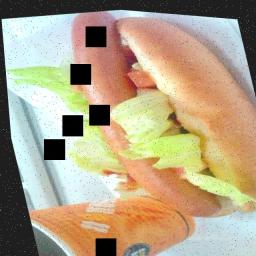hotdog: (57, 3, 256, 234)
